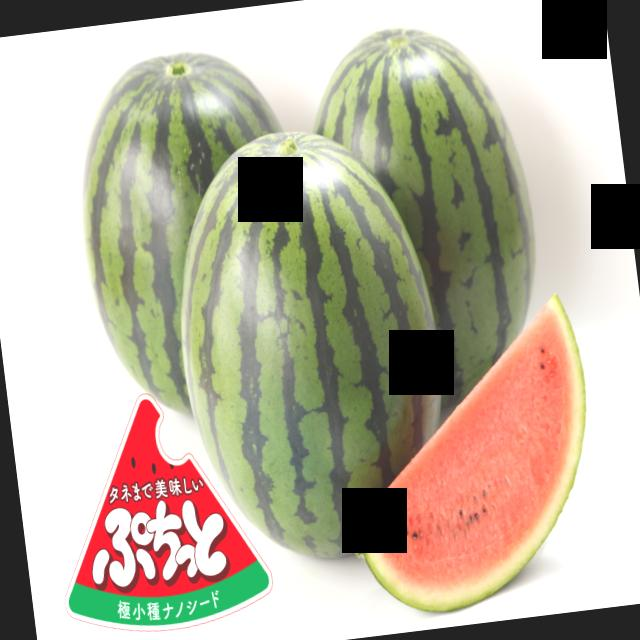watermelon: (180, 131, 442, 561), (313, 26, 535, 421), (80, 51, 281, 412)
